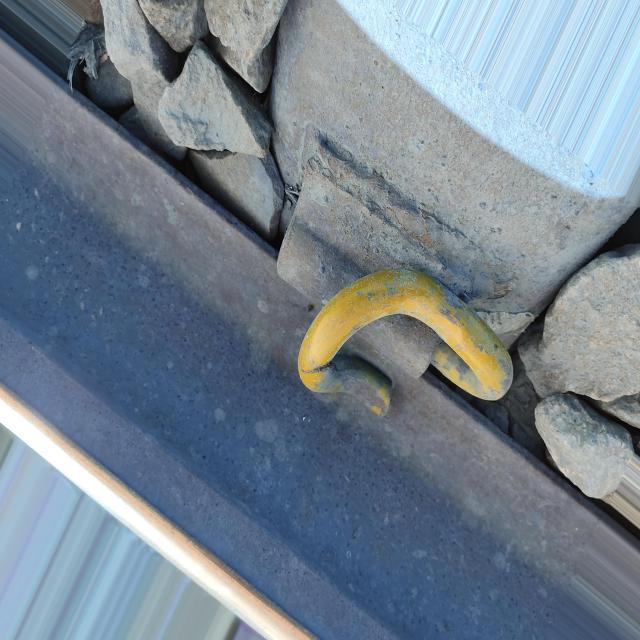Good Fasteners: (270, 0, 630, 409)
